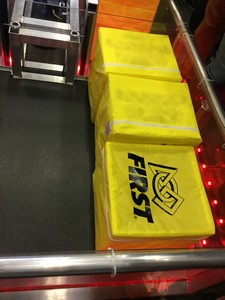cube: (87, 143, 216, 251)
